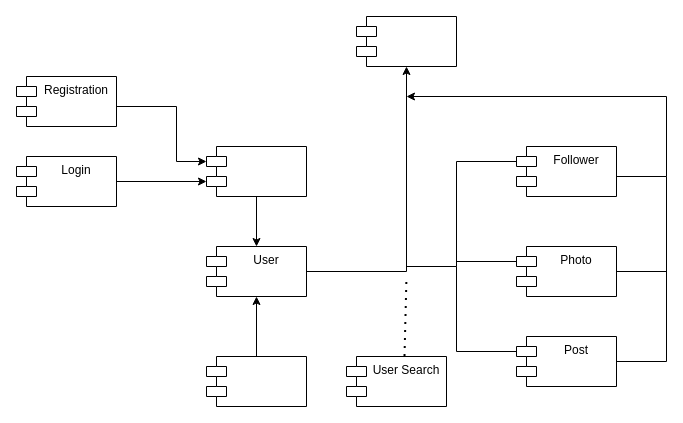
The diagram is 683 pixels wide and 423 high, and some of its shapes have lost their labels. Each missing label, with the centre of its shape:
"Comment" belongs at point (256, 381).
"User database" belongs at point (406, 41).
"User Profile" belongs at point (256, 171).
